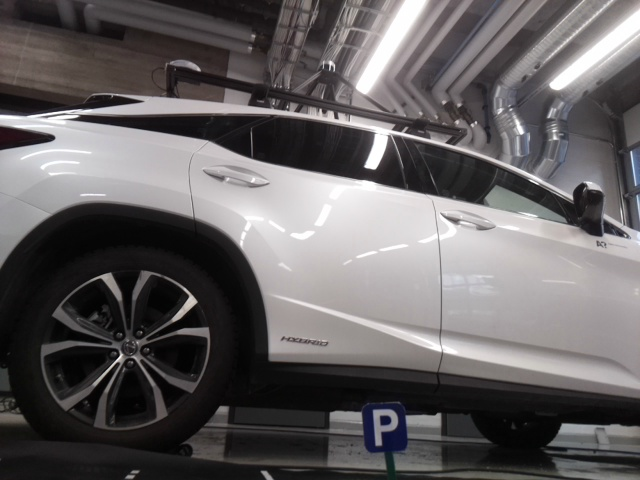Parking: (359, 403, 409, 452)
